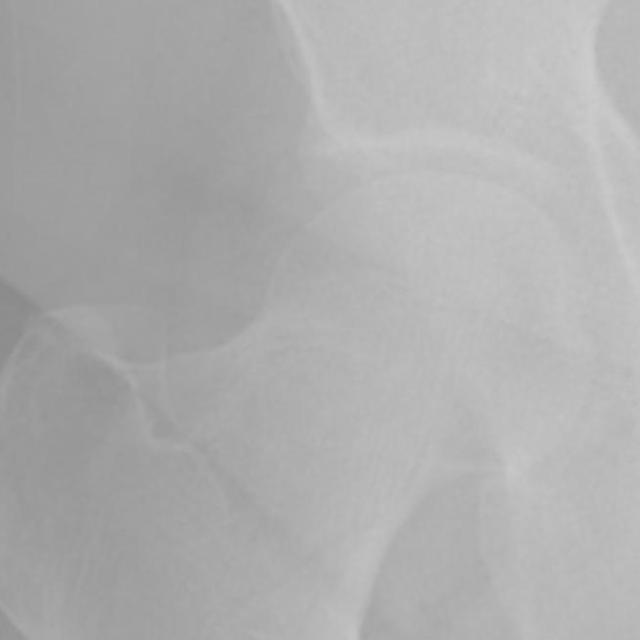Fitted_femural_head: (320, 170, 432, 320)
